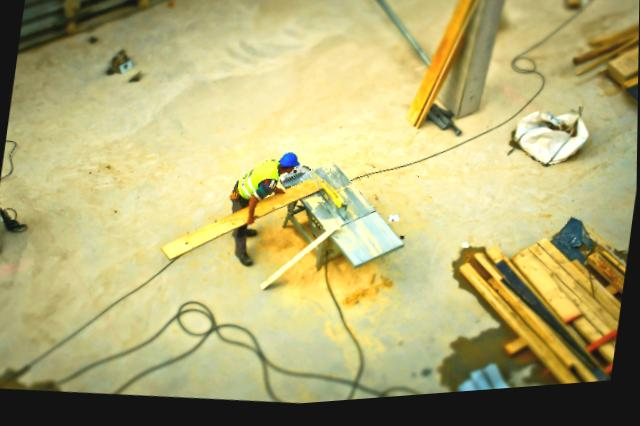helmet: (277, 153, 304, 176)
vest: (228, 157, 289, 216)
